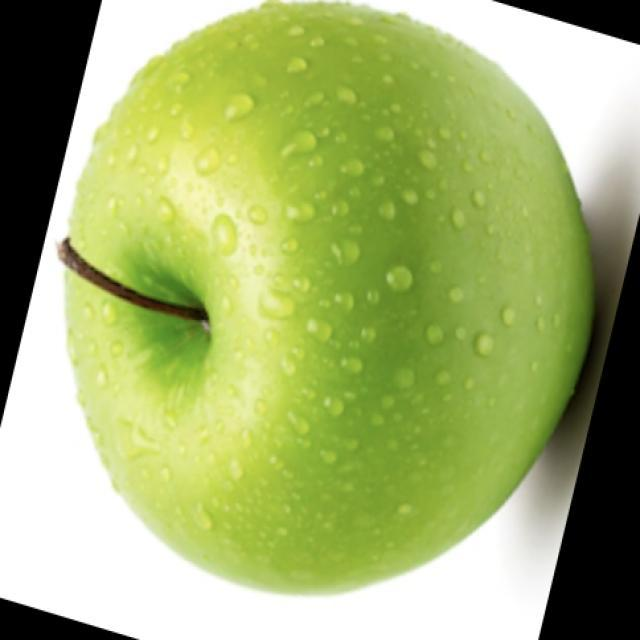Fresh Apple: (53, 28, 580, 557)
